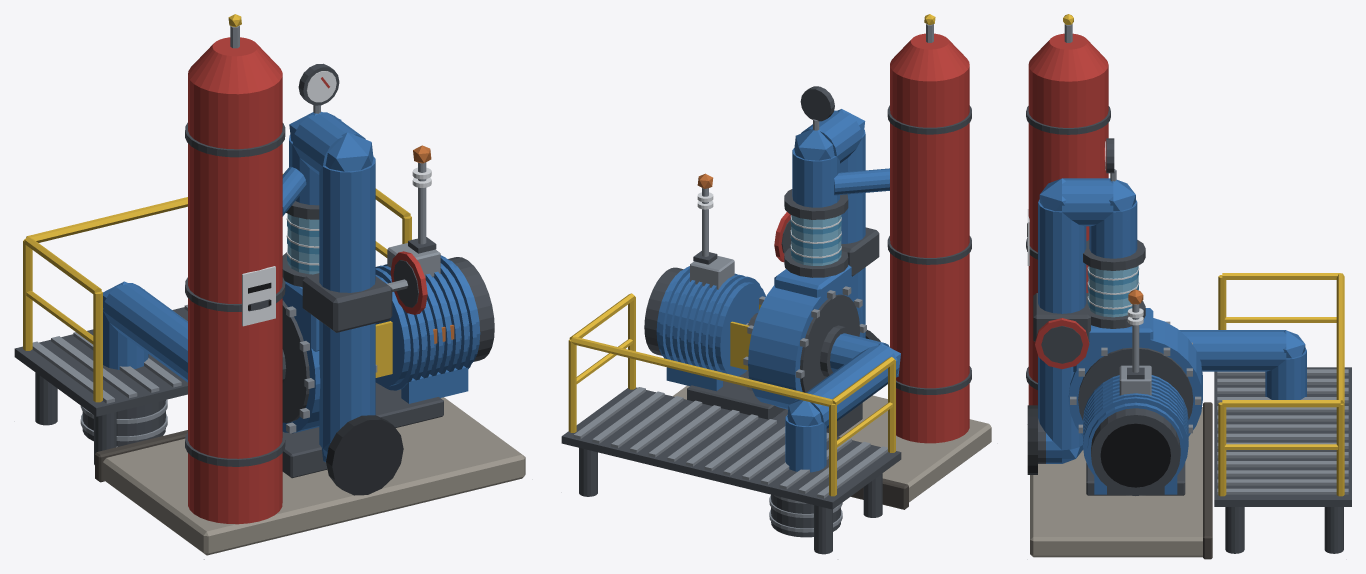
The model's file is pompe_eau.glb.
The picture shows the model from 3 angles, left to right: view 1: azimuth 30°, elevation 25°; view 2: azimuth 150°, elevation 25°; view 3: azimuth 270°, elevation 25°; orthographic projection. The views are drawn at different scales.
Visible parts, largest first — view 1: reservoir.002, pieces_bleu.002, pieces_beton.044, pieces_acier_sombre.044, pieces_jaune.008, pieces_acier.038, pieces_fonte.002, reservoir_dome.002, moteur.002, pieces_blanc.002, volute_joue.002, moteur_capot.002 (+7 smaller); view 2: reservoir.002, pieces_acier_sombre.044, pieces_bleu.002, pieces_acier.038, pieces_jaune.008, volute.002, pieces_beton.044, moteur.002, reservoir_dome.002, volute_joue.002, pieces_verre.002, crepine.002 (+4 smaller); view 3: pieces_bleu.002, pieces_acier_sombre.044, pieces_beton.044, pieces_acier.038, reservoir.002, pieces_jaune.008, pieces_noir.008, moteur_capot.002, volute_joue.002, reservoir_dome.002, volute.002, pieces_pierre_sombre.002 (+6 smaller).
Part boxes in pixels (x1,y1,x2,y2): reservoir.002: [188, 73, 282, 524]; pieces_bleu.002: [103, 111, 476, 462]; pieces_beton.044: [103, 397, 525, 555]; pieces_acier_sombre.044: [14, 122, 443, 478]; pieces_jaune.008: [23, 14, 411, 402]; pieces_acier.038: [32, 25, 440, 441]; pieces_fonte.002: [326, 415, 403, 495]; reservoir_dome.002: [188, 37, 282, 94]; moteur.002: [375, 259, 480, 386]; pieces_blanc.002: [242, 71, 431, 326]; volute_joue.002: [282, 300, 309, 422]; moteur_capot.002: [448, 257, 494, 361]; reservoir.002: [890, 65, 969, 443]; pieces_acier_sombre.044: [561, 105, 971, 554]; pieces_bleu.002: [659, 109, 900, 472]; pieces_acier.038: [573, 24, 933, 532]; pieces_jaune.008: [568, 14, 935, 496]; volute.002: [748, 285, 861, 409]; pieces_beton.044: [673, 385, 991, 502]; moteur.002: [656, 269, 765, 376]; reservoir_dome.002: [890, 33, 969, 81]; volute_joue.002: [800, 294, 859, 392]; pieces_verre.002: [791, 215, 841, 265]; crepine.002: [771, 494, 840, 537]; pieces_bleu.002: [1038, 178, 1306, 494]; pieces_acier_sombre.044: [1026, 106, 1351, 553]; pieces_beton.044: [1030, 407, 1202, 557]; pieces_acier.038: [1064, 24, 1348, 494]; reservoir.002: [1028, 65, 1108, 405]; pieces_jaune.008: [1063, 14, 1344, 496]; pieces_noir.008: [1027, 223, 1170, 487]; moteur_capot.002: [1091, 408, 1180, 495]; volute_joue.002: [1078, 347, 1193, 420]; reservoir_dome.002: [1028, 33, 1108, 81]; volute.002: [1068, 318, 1202, 436]; pieces_pierre_sombre.002: [1203, 402, 1212, 559].
Size of the model in its own units: 1 by 1.5 by 1.02.
